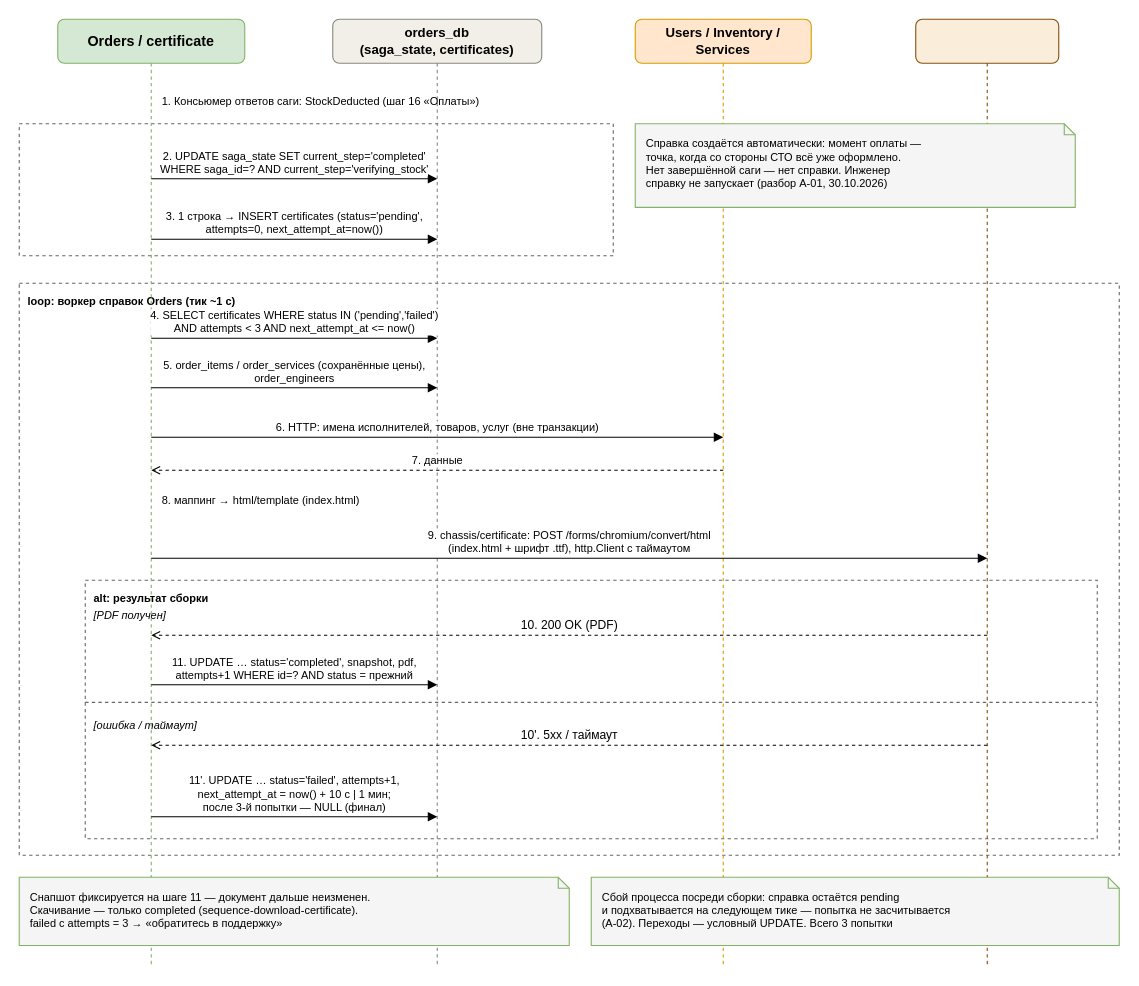
Some shapes in this 1139 by 986 pixel diagram are drawn without their labels. Here are the shapes that lost their labels. From the top down, the centre of each, then its label:
[987,40]: Gotenberg
[315,189]: транзакция завершения саги (ADR-030, ADR-035)
